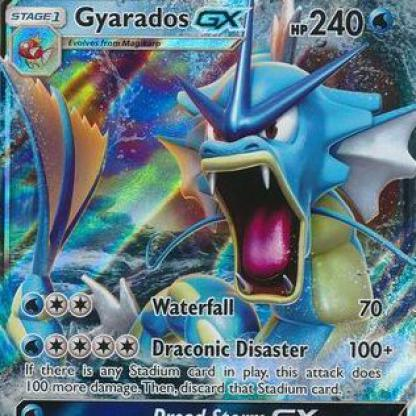Gyarados: (1, 70, 416, 295)
